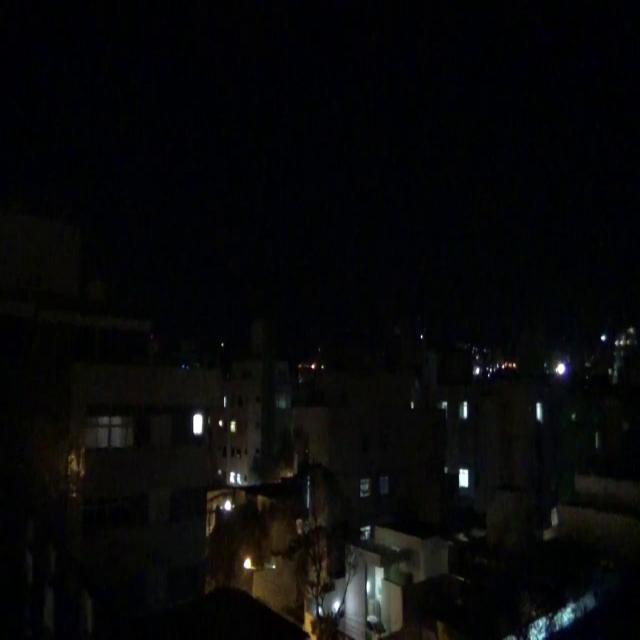Fire: (310, 362, 316, 369)
